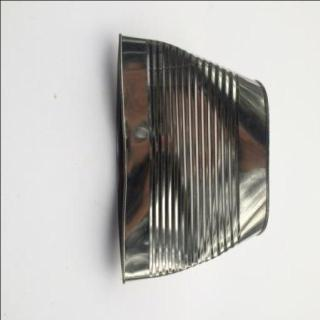Anorganik: (116, 31, 268, 284)
